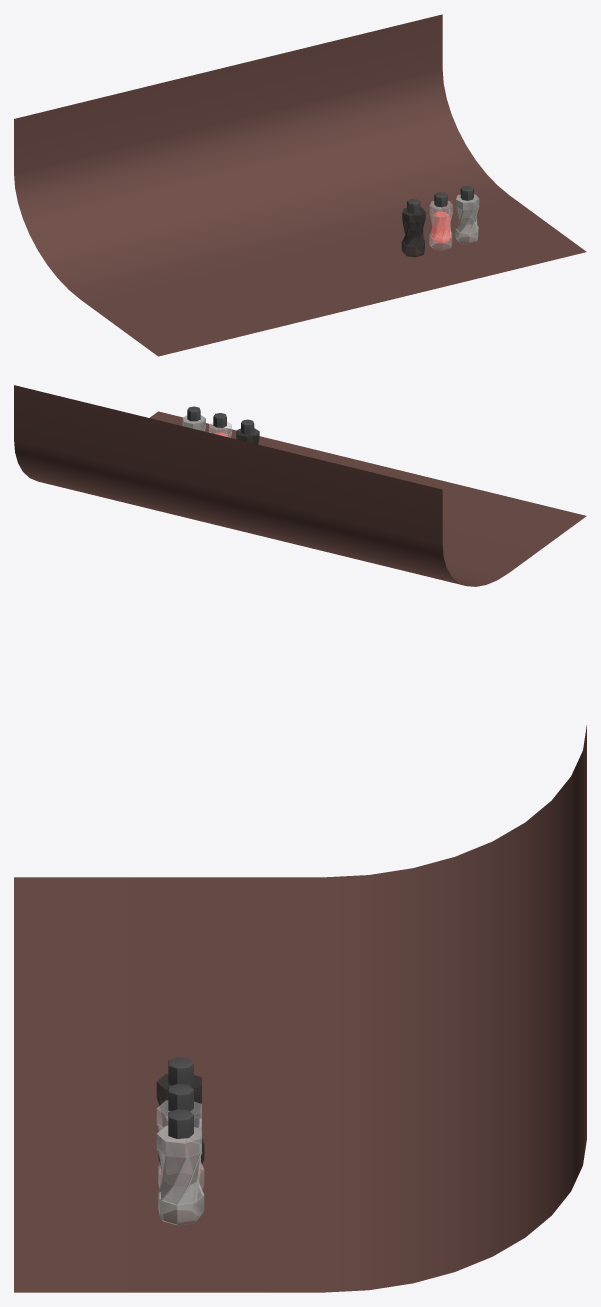
File: parfumebottle.glb
The picture shows the model from 3 angles, top to bottom: view 1: azimuth 30°, elevation 25°; view 2: azimuth 150°, elevation 25°; view 3: azimuth 270°, elevation 25°; orthographic projection. The views are drawn at different scales.
Parts seen in each view (by area): view 1: Plane, Circle.003, Circle.005, Circle, Circle.002; view 2: Plane; view 3: Plane, Circle.003, Circle.005.
Boxes of the visible parts, x1=… form: Plane: x1=14, y1=14, x2=586, y2=356; Circle.003: x1=455, y1=194, x2=479, y2=244; Circle.005: x1=401, y1=207, x2=425, y2=257; Circle: x1=429, y1=201, x2=452, y2=250; Circle.002: x1=431, y1=211, x2=450, y2=243; Plane: x1=14, y1=385, x2=586, y2=586; Plane: x1=14, y1=725, x2=586, y2=1292; Circle.003: x1=156, y1=1125, x2=204, y2=1225; Circle.005: x1=156, y1=1073, x2=204, y2=1167.
Size of the model in its own units: 8.07 by 2.38 by 4.7.
